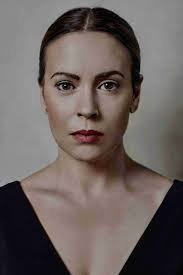noMask: (30, 5, 152, 173)
